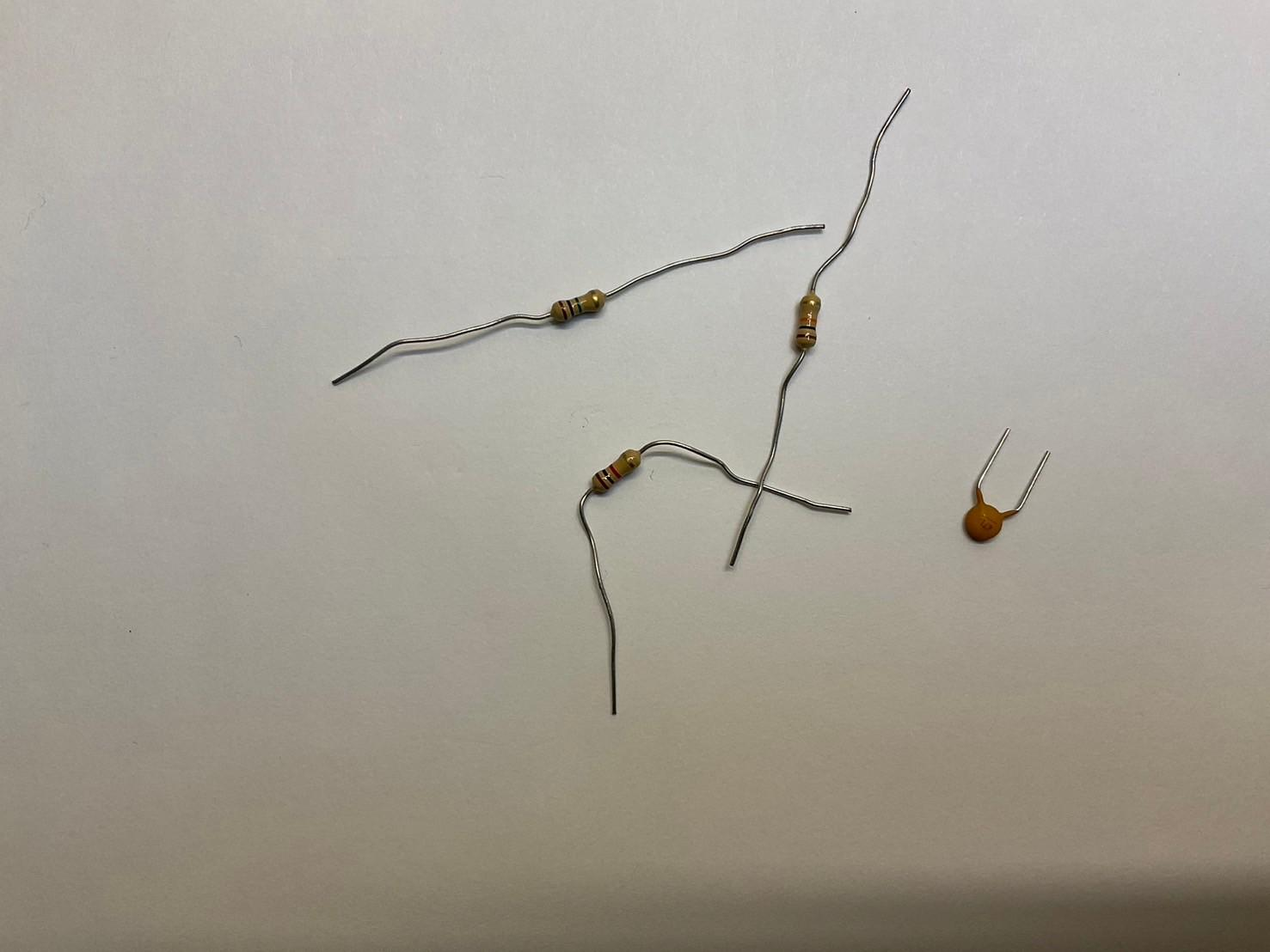resistor: (549, 285, 607, 328), (589, 448, 643, 493), (792, 292, 823, 352)
